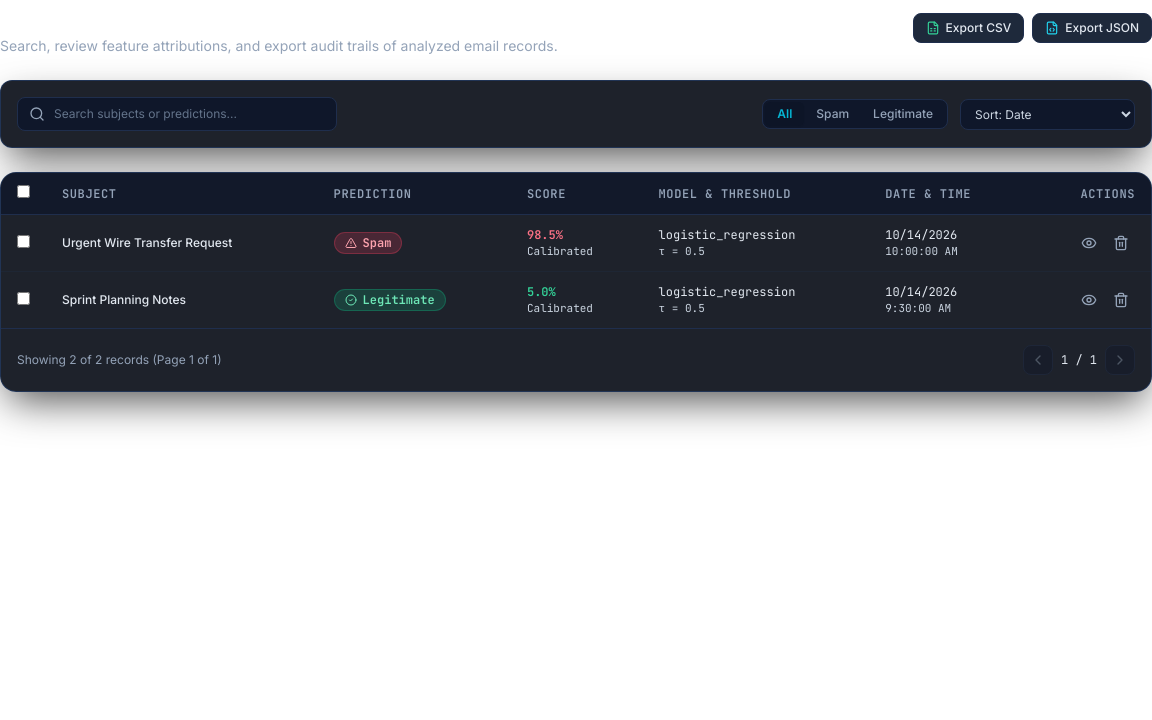
Test: HistoryView Component › opens detail modal and displays explanations
Check: the text "Urgent Wire Transfer Request" is shown, box [46,214,318,272]
Click the button titled "View Feature Explanations" in the row of "Urgent Wire Transfer Request": point(1089, 243) [1075,229,1103,257]
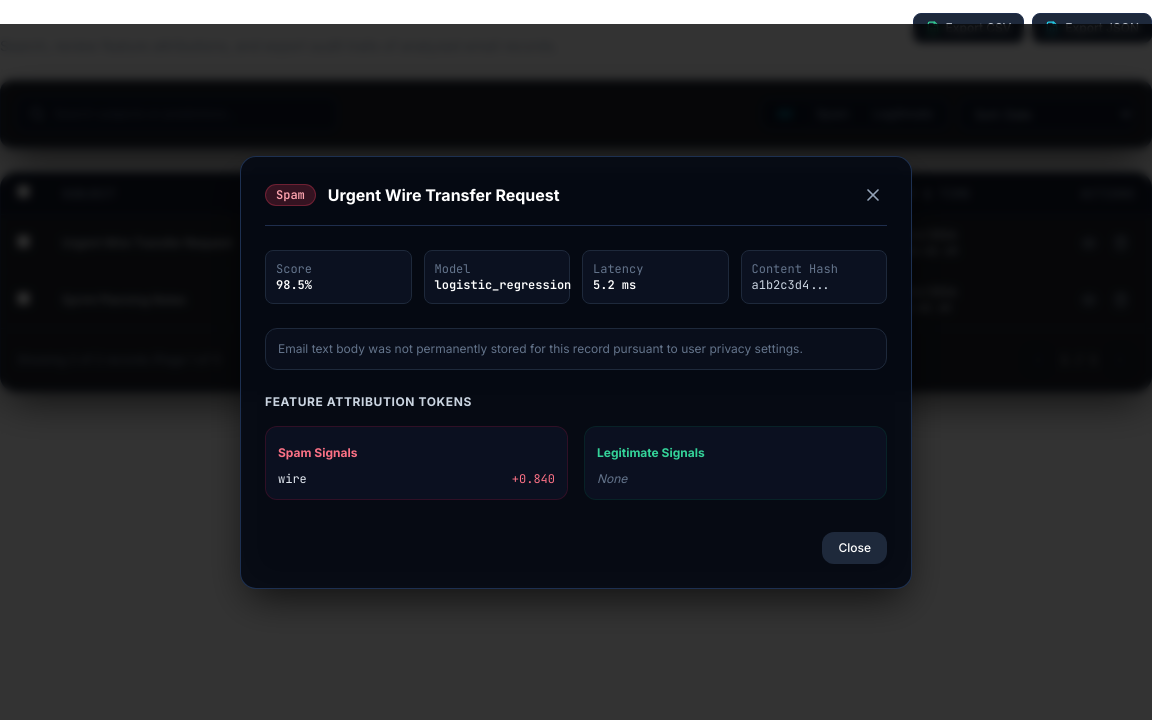
Check: the heading "Feature Attribution Tokens" is shown, box [265,394,472,408]
Check: the text "wire" is shown, box [278,470,307,486]
